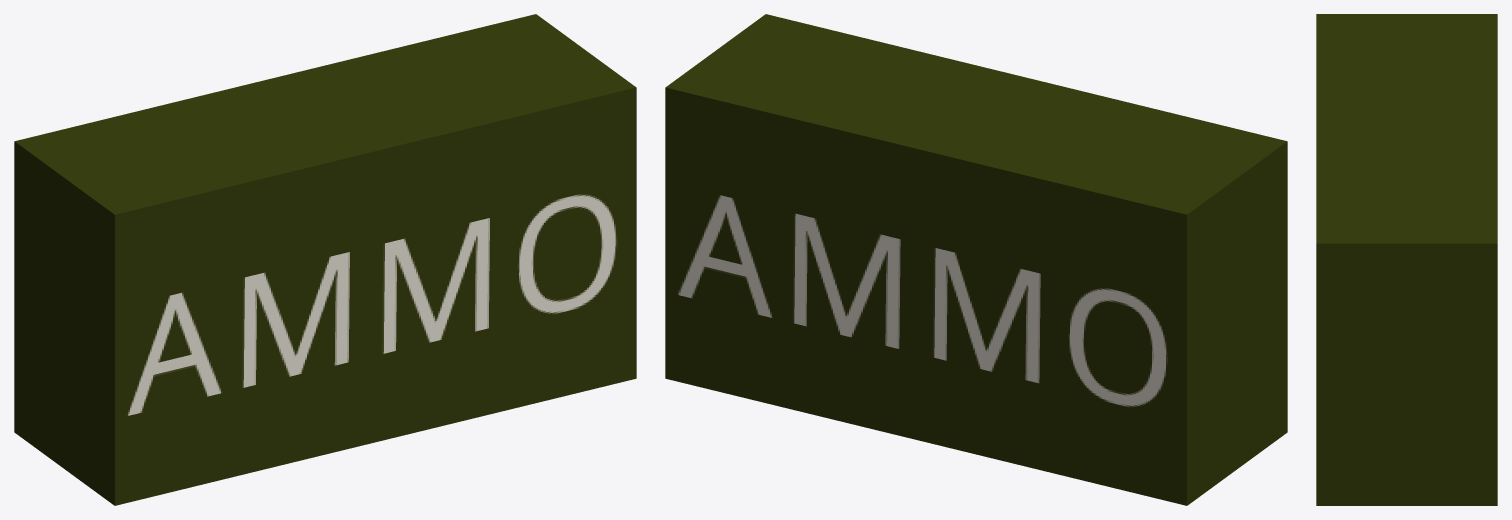
File: ammo_box.glb
3 renders of one model, left to right at view 1: azimuth 30°, elevation 25°; view 2: azimuth 150°, elevation 25°; view 3: azimuth 270°, elevation 25°, orthographic. The views are drawn at different scales.
Parts seen in each view (by area): view 1: Box, Face_1; view 2: Box, Face_2; view 3: Box.
Boxes of the visible parts, x1,y1,x2,y2 form: Box: (14, 14, 636, 505); Face_1: (128, 194, 616, 415); Box: (665, 14, 1287, 505); Face_2: (678, 195, 1167, 406); Box: (1316, 14, 1497, 505).
Size of the model in its own units: 0.3 by 0.16 by 0.1.
2 materials, 1 textured.
